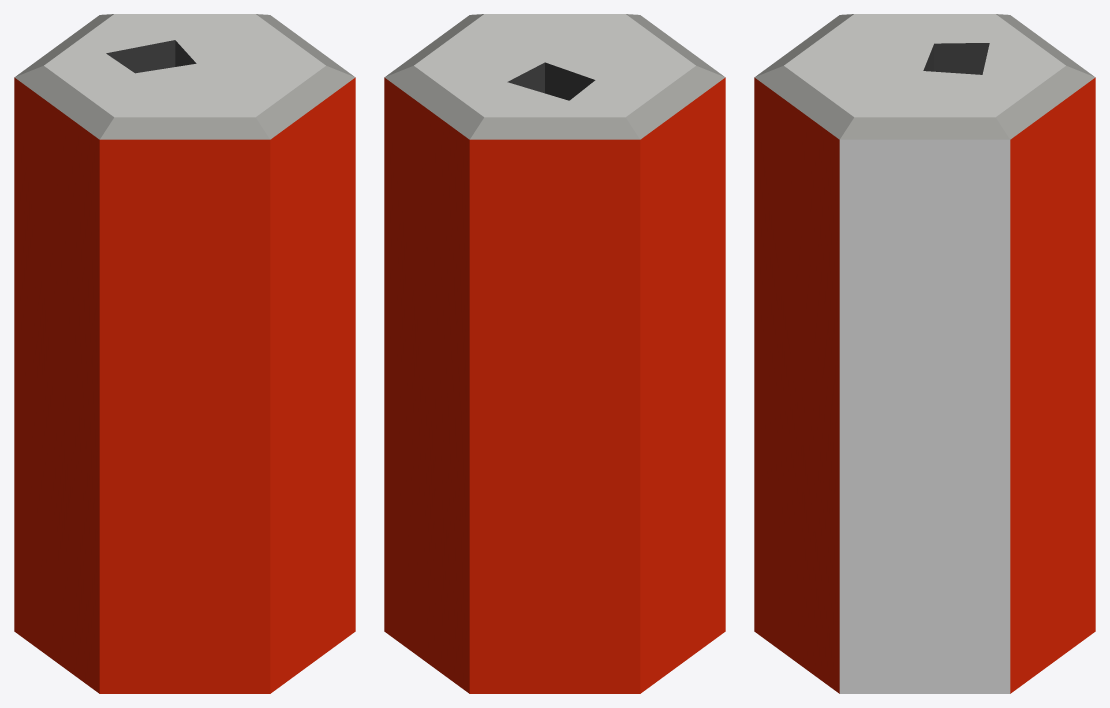
File: Red_can_fix.fbx
The picture shows the model from 3 angles, left to right: view 1: azimuth 30°, elevation 25°; view 2: azimuth 150°, elevation 25°; view 3: azimuth 270°, elevation 25°; orthographic projection.
Visible parts, largest first — view 1: Cylinder; view 2: Cylinder; view 3: Cylinder.
Boxes of the visible parts, left/top/right/bottom form: Cylinder: left=14, top=14, right=355, bottom=693; Cylinder: left=384, top=14, right=725, bottom=693; Cylinder: left=754, top=14, right=1095, bottom=693.
Bounding box in the file's own units: 51.09 × 108 × 59.
